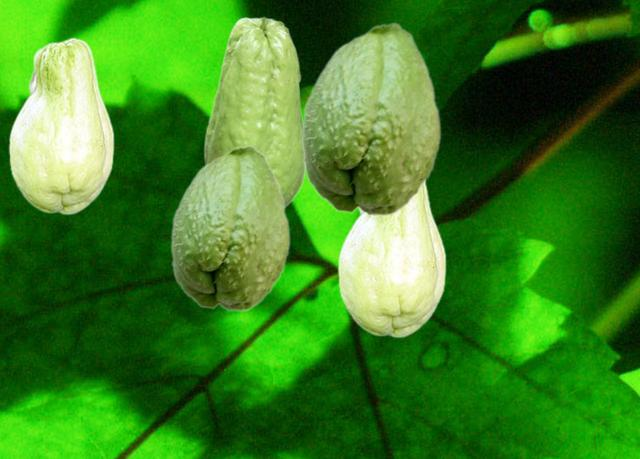sayote: (301, 21, 441, 216), (170, 144, 290, 311), (203, 16, 305, 207), (8, 37, 113, 214), (337, 181, 445, 337)
